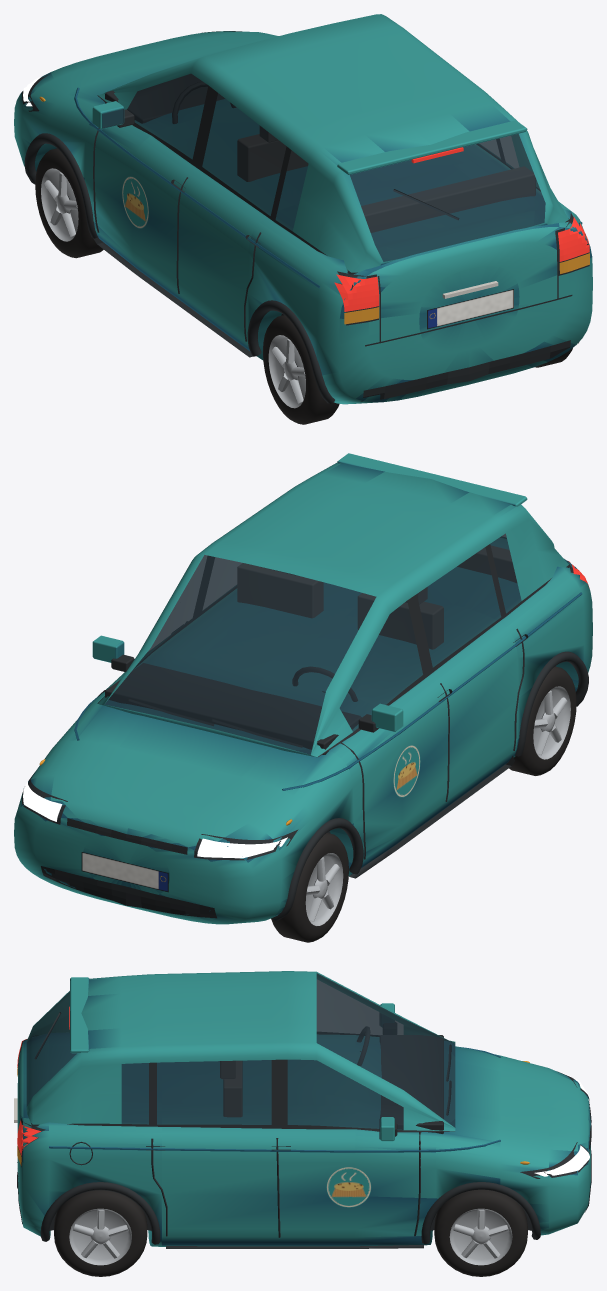
Rendered from microcar.glb.
The picture shows the model from 3 angles, top to bottom: view 1: azimuth 30°, elevation 25°; view 2: azimuth 150°, elevation 25°; view 3: azimuth 270°, elevation 25°; orthographic projection. The views are drawn at different scales.
Visible parts, largest first — view 1: microcar; view 2: microcar; view 3: microcar.
Boxes of the visible parts, bbox=[...] form: microcar: bbox=[14, 14, 592, 424]; microcar: bbox=[14, 453, 592, 942]; microcar: bbox=[14, 971, 591, 1276].
Size of the model in its own units: 1.82 by 1.5 by 3.59.
Materials: 12 (2 with a texture image).
